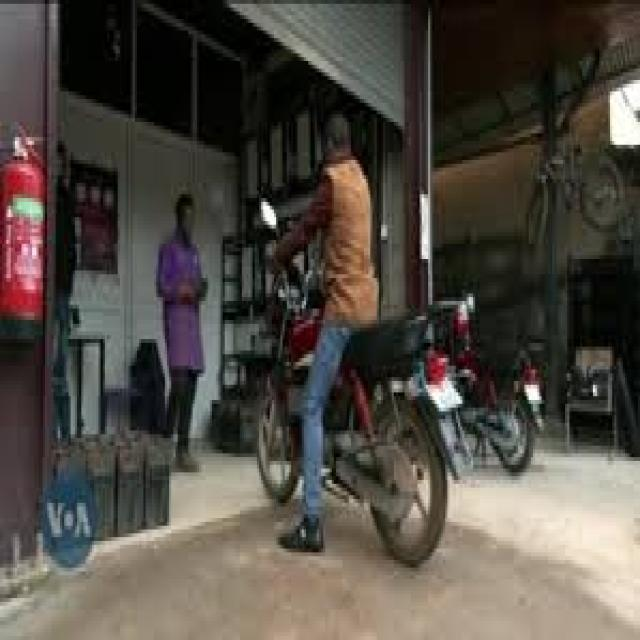bodaboda: (225, 151, 486, 604)
